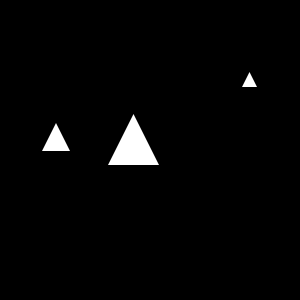triangle: (108, 114, 159, 165), (42, 123, 70, 151), (242, 72, 257, 87)
